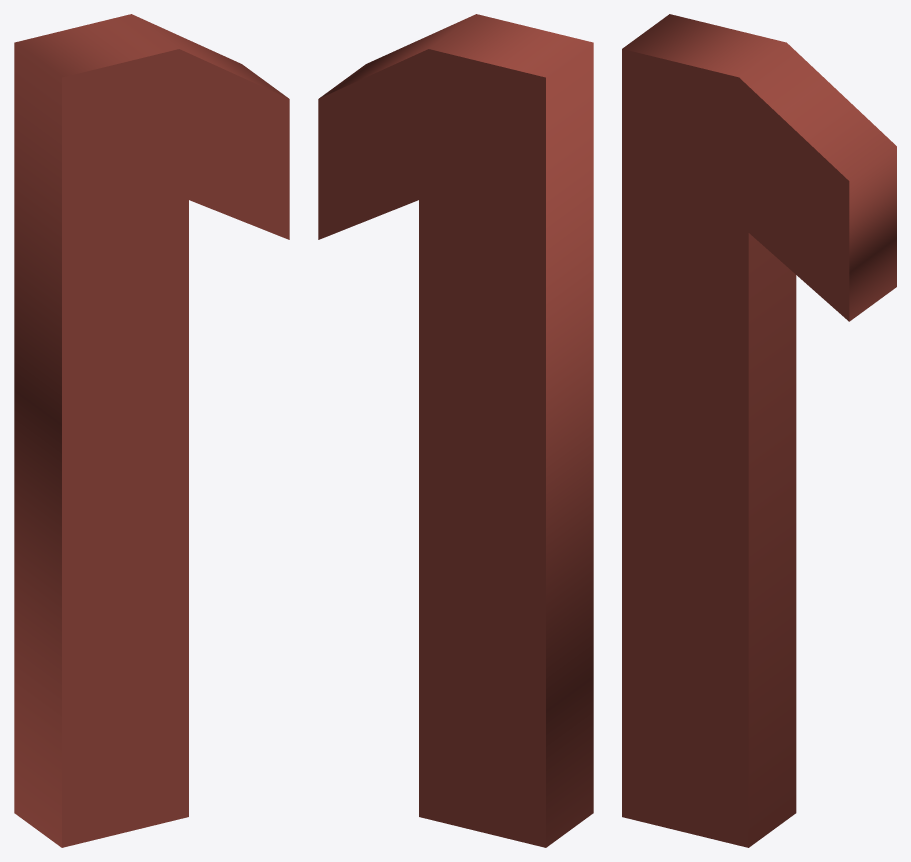
Rendered from Цифра_1.fbx.
The picture shows the model from 3 angles, left to right: view 1: azimuth 30°, elevation 25°; view 2: azimuth 150°, elevation 25°; view 3: azimuth 330°, elevation 25°; orthographic projection.
Visible parts, largest first — view 1: 1; view 2: 1; view 3: 1.
Boxes of the visible parts, x1=… form: 1: x1=14, y1=14, x2=289, y2=847; 1: x1=318, y1=14, x2=593, y2=847; 1: x1=622, y1=14, x2=896, y2=847.
Size of the model in its own units: 131 by 425 by 47.74.
